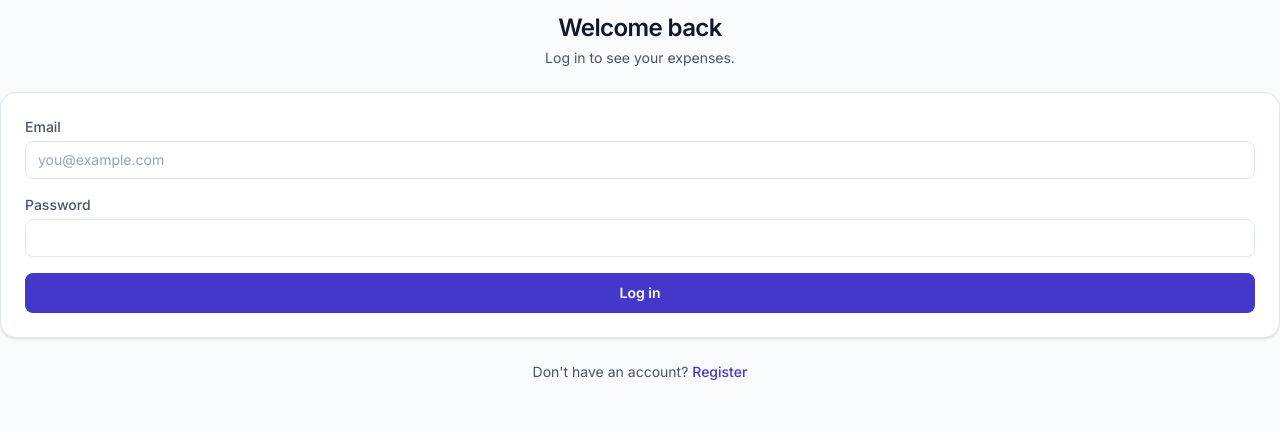
Test: LoginPage › shows the error message returned by the sign-in action
The image size is (1280, 433).
Type "user@example.com" into the field labelled "Email" at point(640, 160), box x1=25 y1=141 x2=1255 y2=179
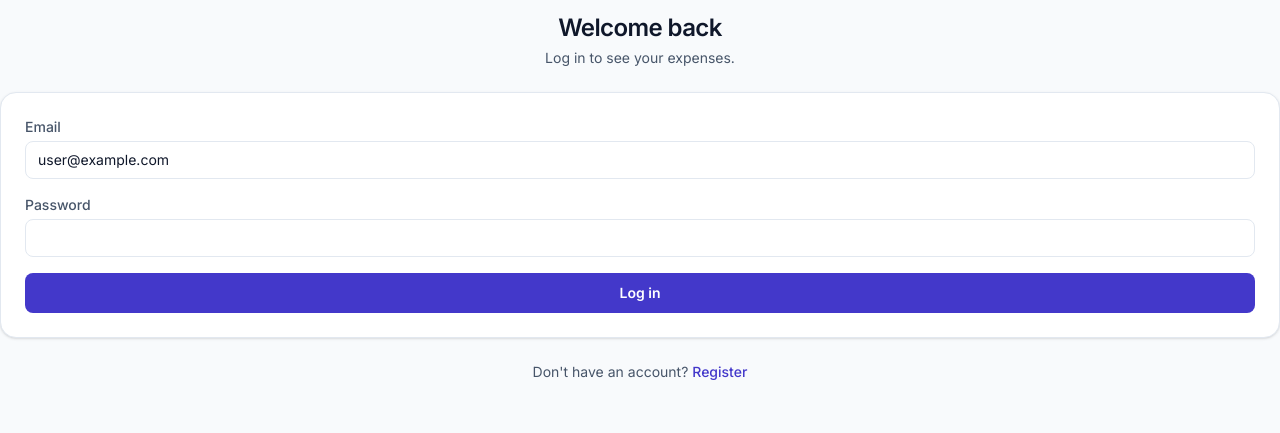
Type "wrongpassword" into the password field labelled "Password" at point(640, 238), box x1=25 y1=219 x2=1255 y2=257
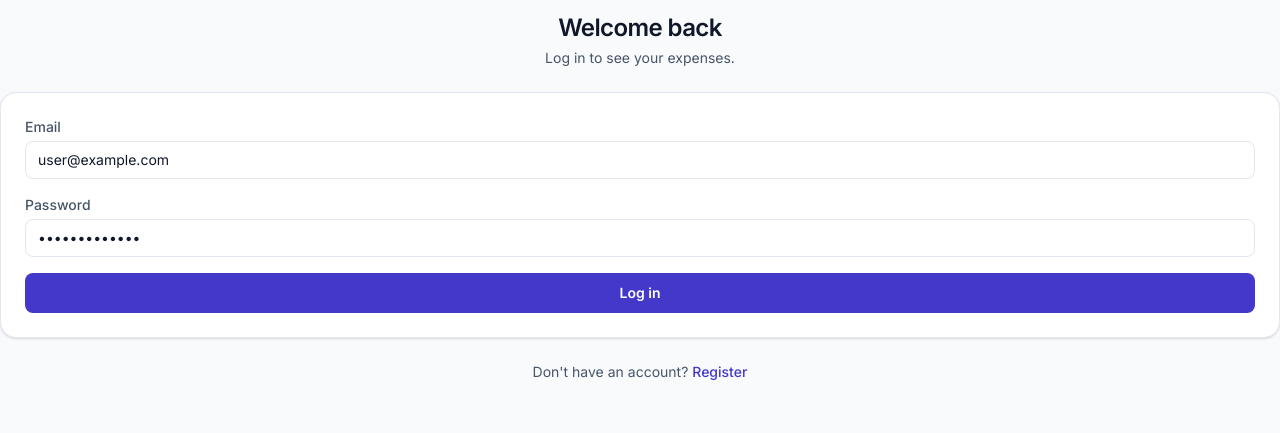
Submit the form "Email Password Log in", box x1=0 y1=92 x2=1279 y2=338
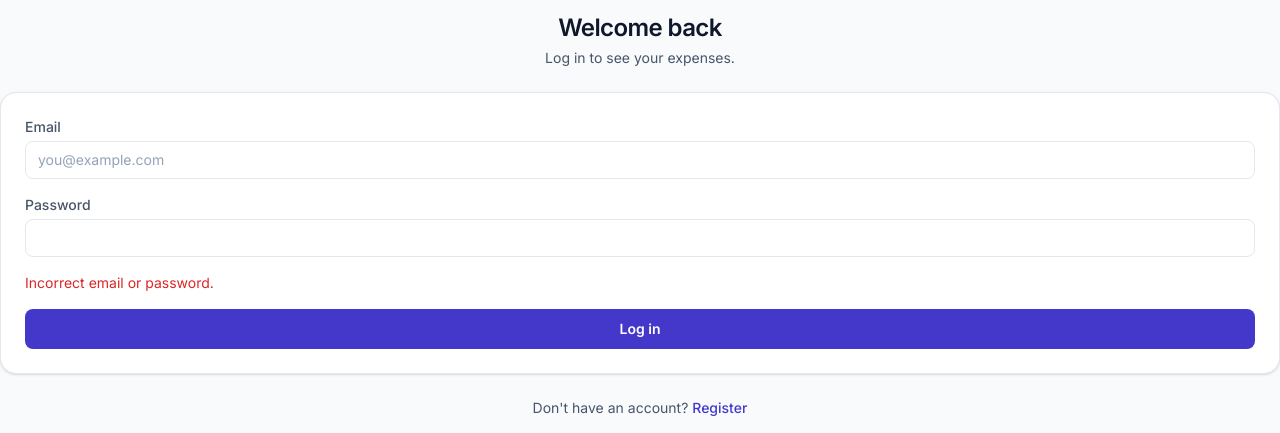
expect the text "Incorrect email or password." is shown: met, box x1=25 y1=274 x2=214 y2=291
